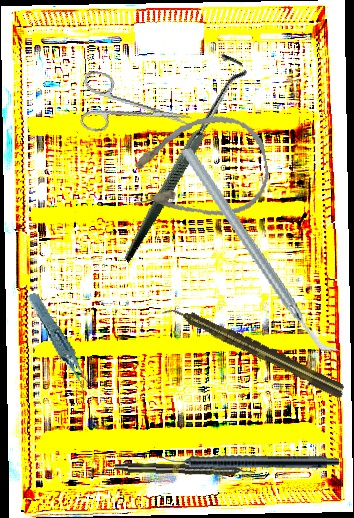Cannula: (122, 108, 275, 231)
Chopper: (178, 127, 342, 375)
Handpiece: (161, 297, 349, 402), (160, 452, 339, 469), (114, 461, 256, 478)
Hook Surgical: (60, 47, 300, 264)
Iris Scissors: (73, 69, 198, 152)
Tissue Forceps: (26, 285, 91, 403)
